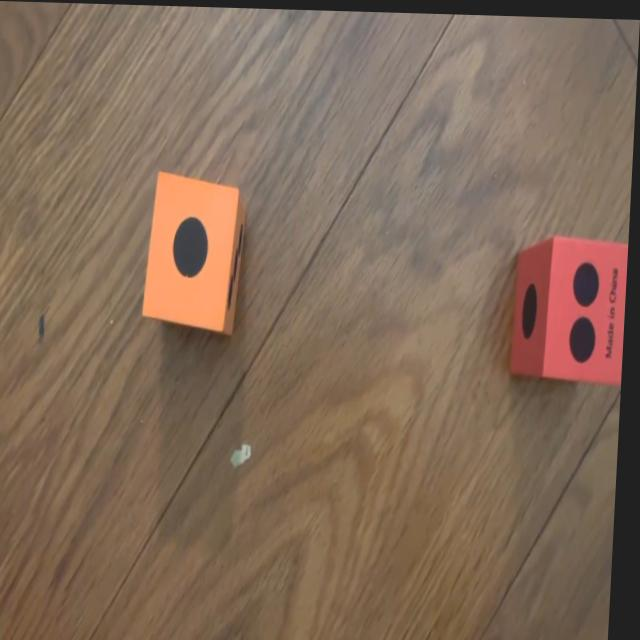red_block: (510, 232, 631, 382)
